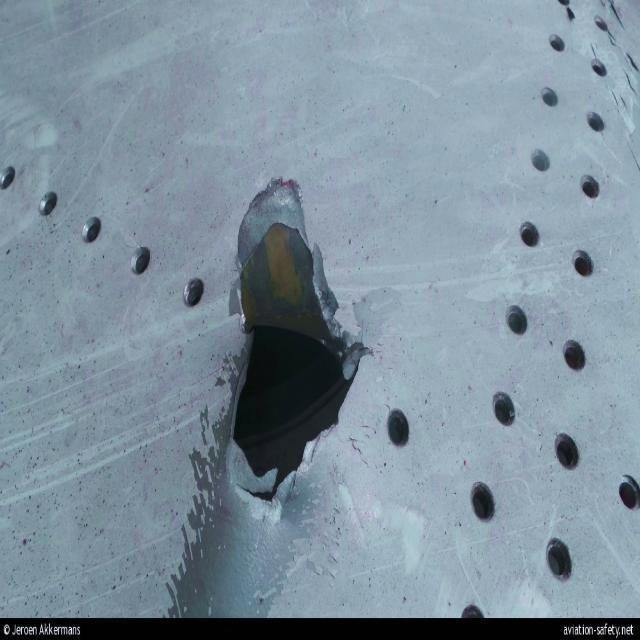crack: (219, 184, 374, 511)
